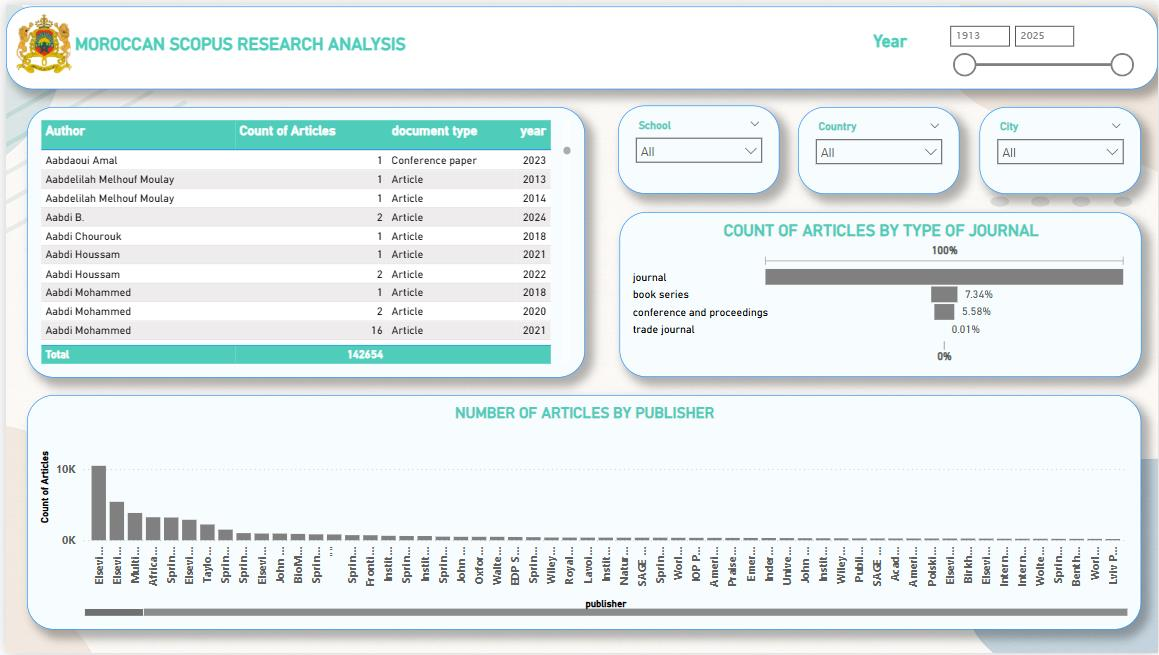

The dashboard page shown, as its layout file describes it:
{"tool":"powerbi","page":{"name":"Dashboard5","canvas":[1280,720],"ordinal":4},"visuals":[{"type":"slicer","fields":{"Values":["Affiliation.city"]},"box":[1081,113.4,179.5,96.4],"z":0},{"type":"slicer","fields":{"Values":["Affiliation.country"]},"box":[880.6,113.4,179.5,96.4],"z":1000},{"type":"slicer","fields":{"Values":["Affiliation.school"]},"box":[680.3,111.5,179.5,98.3],"z":2000},{"type":"columnChart","title":"NUMBER OF ARTICLES BY PUBLISHER","fields":{"Category":["Journal.publisher"],"Y":["CountNonNull(Metadata.doc_id)"]},"box":[22.7,432.8,1237.8,260.8],"z":3000},{"type":"funnel","title":"COUNT OF ARTICLES BY TYPE OF JOURNAL","fields":{"Category":["Journal.type"],"Y":["CountNonNull(Metadata.doc_id)"]},"box":[682.2,230.6,580.2,183.3],"z":4000},{"type":"tableEx","fields":{"Values":["Author.author_name","Metadata.doc_id","Document.document type","Metadata.year"]},"box":[22.7,113.4,619.8,300.5],"z":5000},{"type":"textbox","box":[0,2,1280,92],"z":6000},{"type":"image","box":[0,0,84.5,84.5],"z":7000},{"type":"textbox","box":[71.8,26.5,393.1,41.6],"z":8000},{"type":"textbox","box":[958,24,68,34.7],"z":9000},{"type":"slicer","fields":{"Values":["Metadata.year"]},"box":[1026,3.3,244,86.7],"z":10000}]}

Visuals, with their boxes in screenshot pixels (x1, y1, x2, y2), scaled from the page's 1280x720 canvas onto the 1159x655 screenshot:
slicer - Affiliation.city: bbox=(979, 103, 1141, 191)
slicer - Affiliation.country: bbox=(797, 103, 960, 191)
slicer - Affiliation.school: bbox=(616, 101, 779, 191)
"NUMBER OF ARTICLES BY PUBLISHER" columnChart: bbox=(21, 394, 1141, 631)
"COUNT OF ARTICLES BY TYPE OF JOURNAL" funnel: bbox=(618, 210, 1143, 377)
tableEx - Author.author_name x Metadata.doc_id: bbox=(21, 103, 582, 377)
textbox: bbox=(0, 2, 1158, 86)
image: bbox=(0, 0, 77, 77)
textbox: bbox=(65, 24, 421, 62)
textbox: bbox=(867, 22, 929, 53)
slicer - Metadata.year: bbox=(929, 3, 1150, 82)
